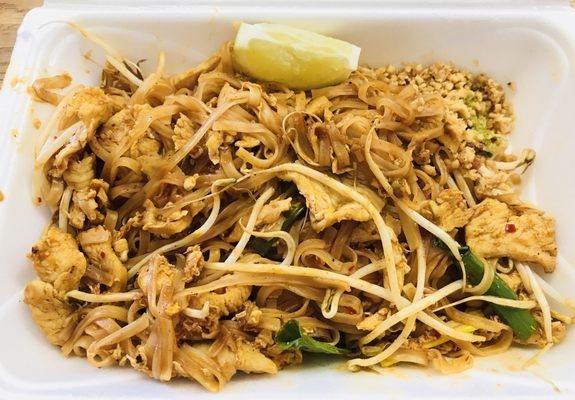sushi: (5, 3, 574, 384)
